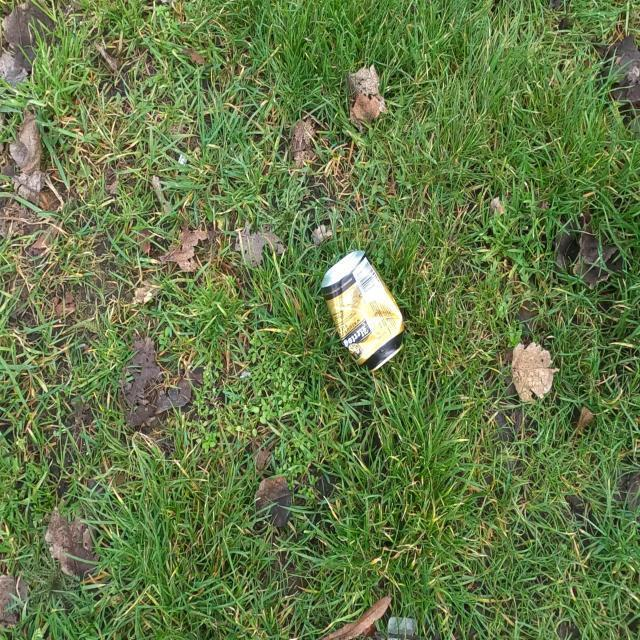Can-Metal: (320, 246, 408, 376)
